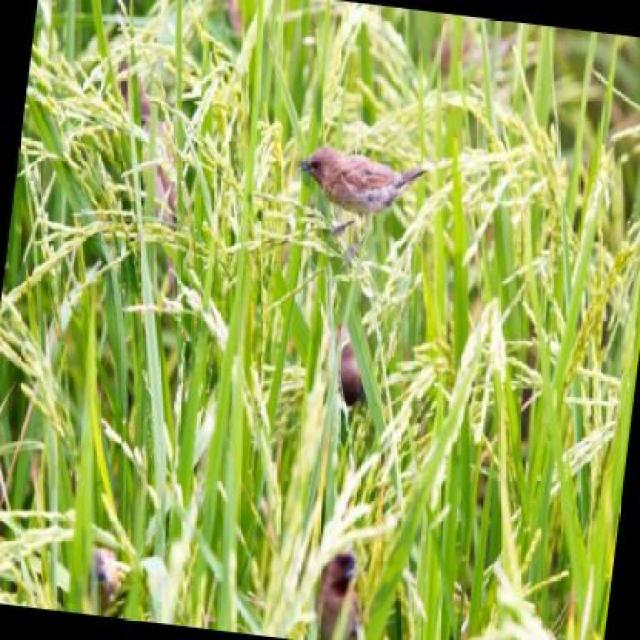Bird: (298, 141, 429, 231), (328, 327, 376, 419), (316, 547, 364, 636)
